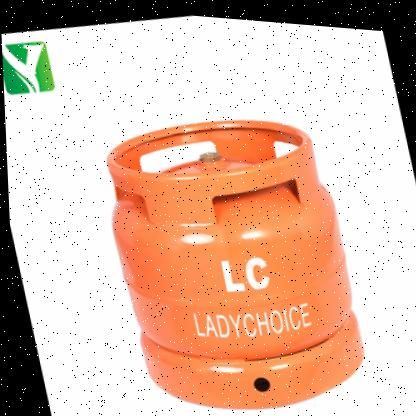gas-tank: (67, 80, 403, 415)
